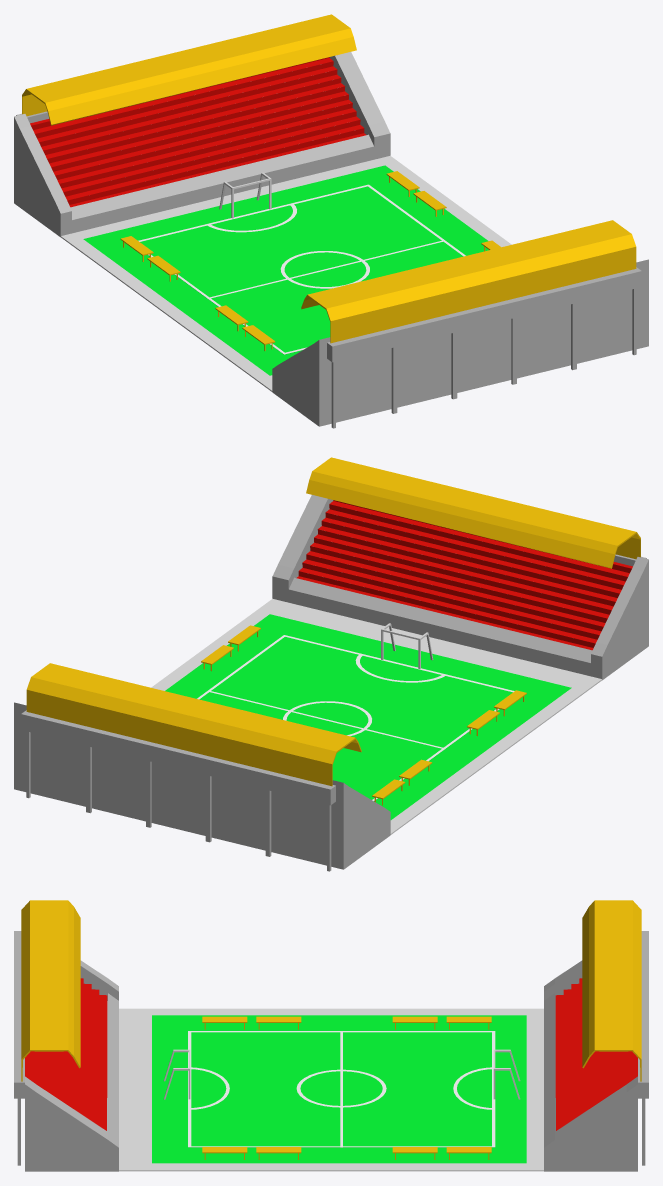
Rendered from Football_Stadium.fbx.
The picture shows the model from 3 angles, top to bottom: view 1: azimuth 30°, elevation 25°; view 2: azimuth 150°, elevation 25°; view 3: azimuth 270°, elevation 25°; orthographic projection.
Visible parts, largest first — view 1: Stadium_1.001, Stadium_1, Ground, Bench; view 2: Stadium_1, Stadium_1.001, Ground, Bench; view 3: Ground, Stadium_1, Stadium_1.001, Bench, Goal_2, Goal_1.
Boxes of the visible parts, box(x1,y1,x2,y2) form: Stadium_1.001: box(14, 14, 390, 237); Stadium_1: box(272, 220, 648, 428); Ground: box(60, 155, 511, 391); Bench: box(120, 171, 500, 350); Stadium_1: box(272, 457, 648, 680); Stadium_1.001: box(14, 663, 390, 871); Ground: box(151, 598, 602, 834); Bench: box(201, 625, 526, 805); Ground: box(119, 1008, 543, 1171); Stadium_1: box(14, 900, 118, 1171); Stadium_1.001: box(544, 900, 648, 1171); Bench: box(202, 1016, 491, 1159); Goal_2: box(163, 1049, 190, 1099); Goal_1: box(493, 1049, 520, 1099).
Size of the model in its own units: 3194 by 1071 by 5306.
